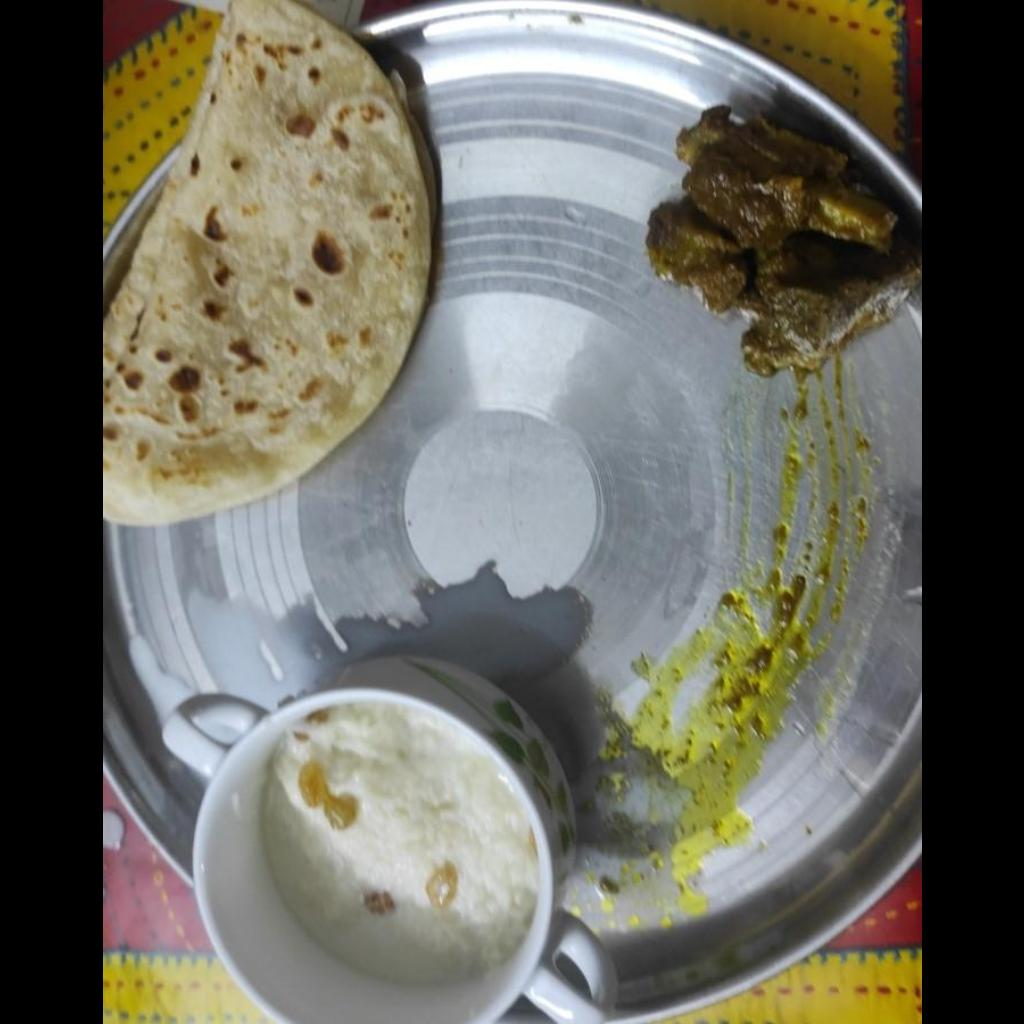chicken: (643, 98, 920, 372)
payesh: (262, 706, 540, 986)
ruti: (107, 2, 434, 529)
